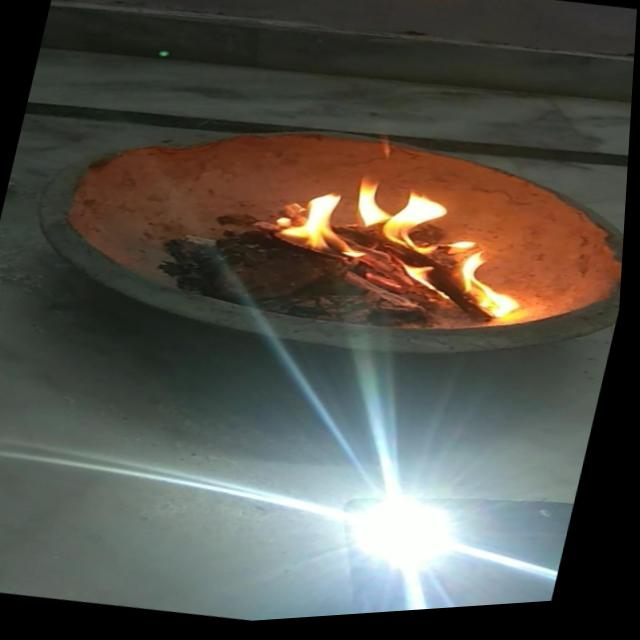fire: (402, 231, 549, 340), (332, 172, 463, 271), (264, 182, 363, 270)
